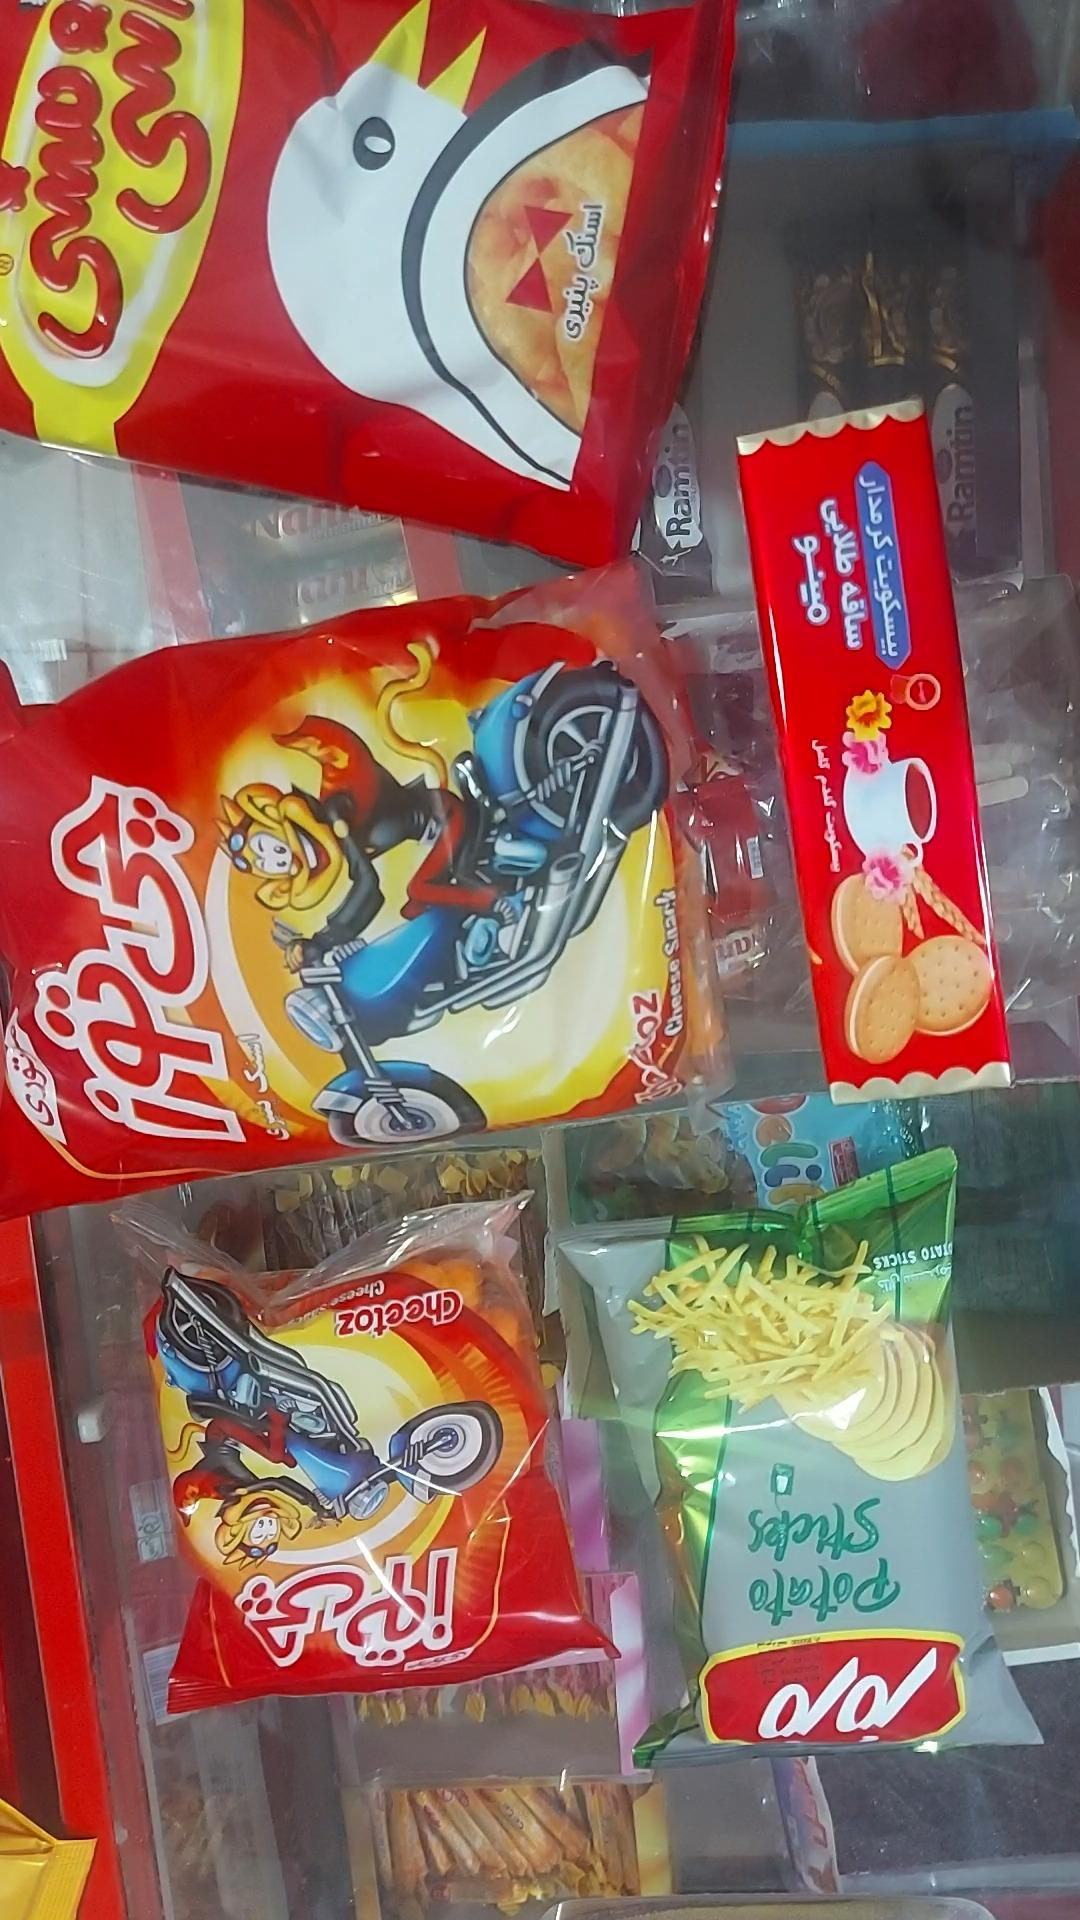Cheetoz snack 30g: (144, 1195, 613, 1714)
Cheetoz snack 90g: (0, 562, 729, 1218)
Maz Maz potato sticks: (560, 1150, 1040, 1767)
Minoo cream biscuit: (738, 401, 1011, 1102)
